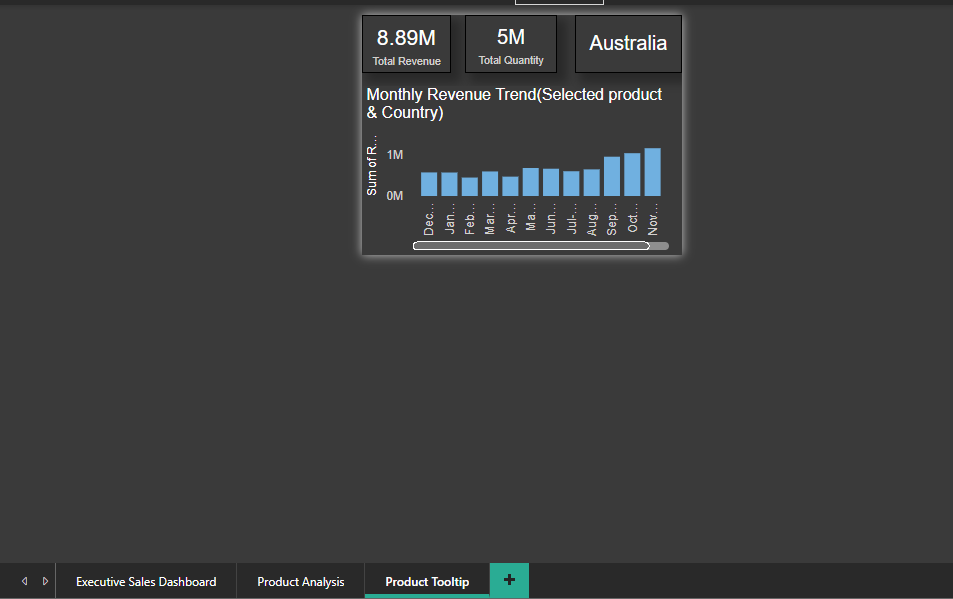

This screenshot's page, from the dashboard's own definition file:
{"tool":"powerbi","page":{"name":"Product Tooltip","canvas":[320,240],"ordinal":2},"visuals":[{"type":"card","fields":{"Values":["online_retail_actualclean.Total Revenue"]},"box":[0,0,89,58],"z":0},{"type":"card","fields":{"Values":["online_retail_actualclean.Total Quantity"]},"box":[103,0,92,58],"z":1000},{"type":"columnChart","title":"Monthly Revenue Trend(Selected product & Country)","fields":{"Category":["online_retail_actualclean.monthYear"],"Y":["Sum(online_retail_actualclean.Revenue)"]},"box":[0,71,312,169],"z":2000},{"type":"card","fields":{"Values":["Min(online_retail_actualclean.Country)"]},"box":[213,0,107,58],"z":3000}]}

Visuals, with their boxes on the page's 320x240 design canvas (x1, y1, x2, y2). These are canvas units, not pixel positions in the 953x599 screenshot, which may show the page scaled, cropped or inside an application window:
card - online_retail_actualclean.Total Revenue: [0, 0, 89, 58]
card - online_retail_actualclean.Total Quantity: [103, 0, 195, 58]
"Monthly Revenue Trend(Selected product & Country)" columnChart: [0, 71, 312, 240]
card - Min(online_retail_actualclean.Country): [213, 0, 320, 58]
